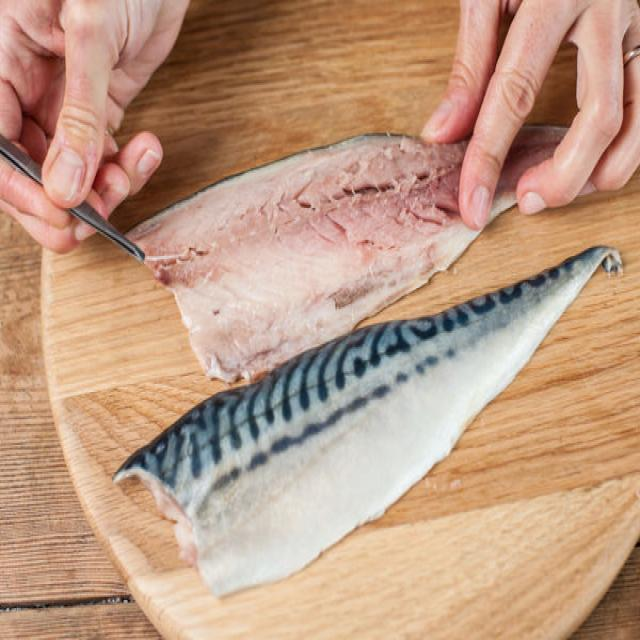Mackerel: (115, 246, 621, 595), (128, 135, 478, 382)
